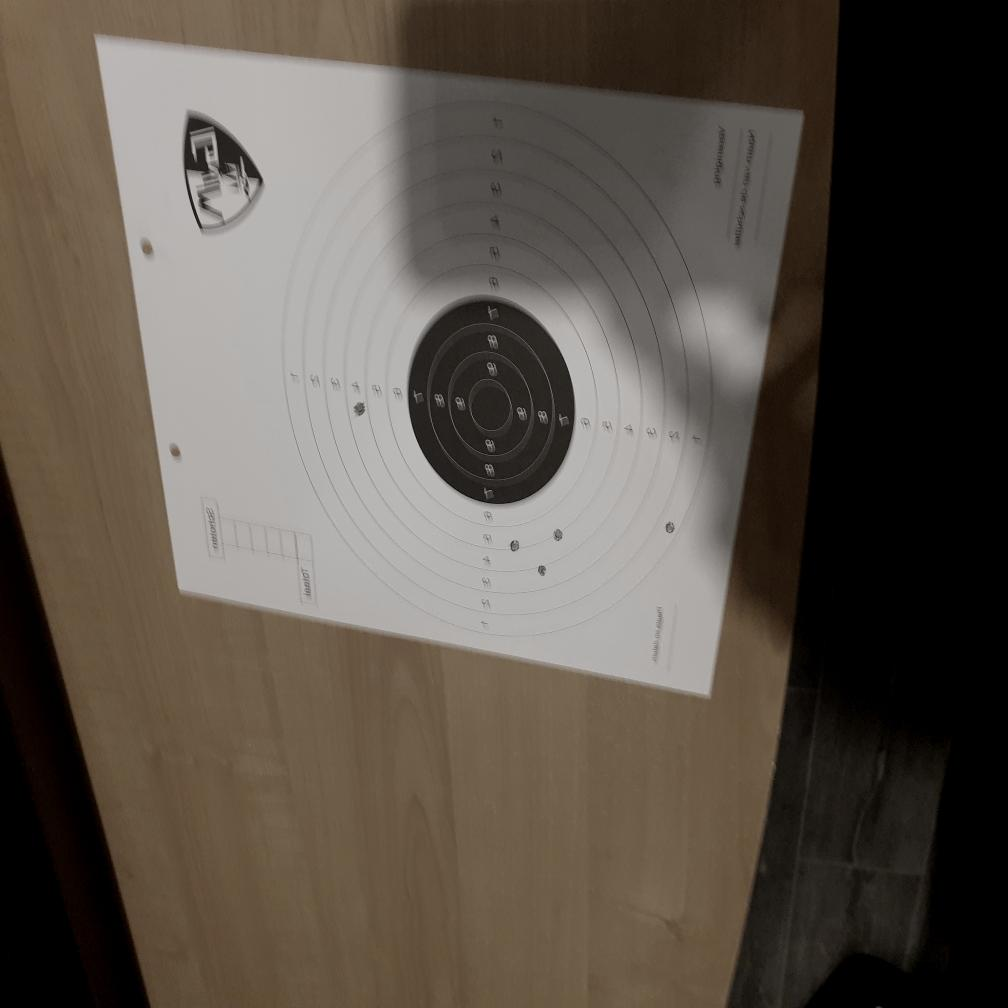1: (664, 518, 676, 539)
4: (349, 400, 365, 420), (536, 564, 547, 578)
5: (550, 528, 564, 544), (507, 540, 520, 555)
Target: (280, 93, 715, 643)
black_contour: (407, 297, 576, 506)
